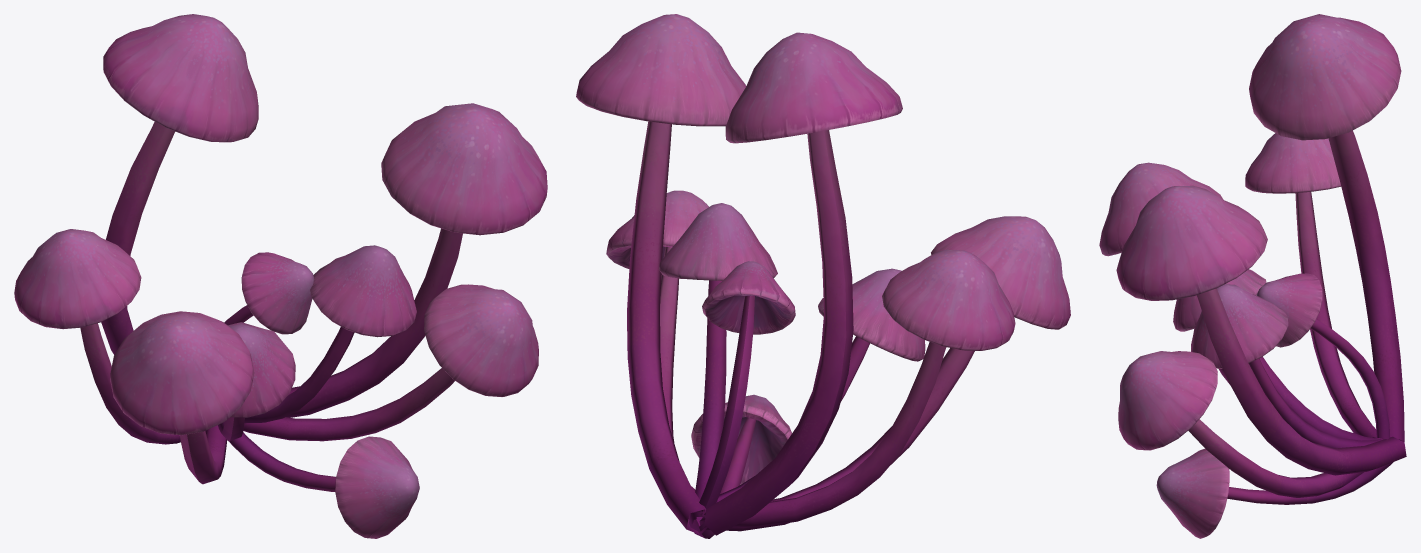
Rendered from SM_Mush_5.fbx.
The picture shows the model from 3 angles, left to right: view 1: azimuth 30°, elevation 25°; view 2: azimuth 150°, elevation 25°; view 3: azimuth 270°, elevation 25°; orthographic projection. The views are drawn at different scales.
Parts seen in each view (by area): view 1: SM_Mush_5; view 2: SM_Mush_5; view 3: SM_Mush_5.
Part boxes in pixels (x1=…): SM_Mush_5: x1=14, y1=14, x2=547, y2=538; SM_Mush_5: x1=576, y1=14, x2=1070, y2=538; SM_Mush_5: x1=1099, y1=14, x2=1406, y2=538.
Bounding box in the file's own units: 99.15 × 104 × 63.09.
